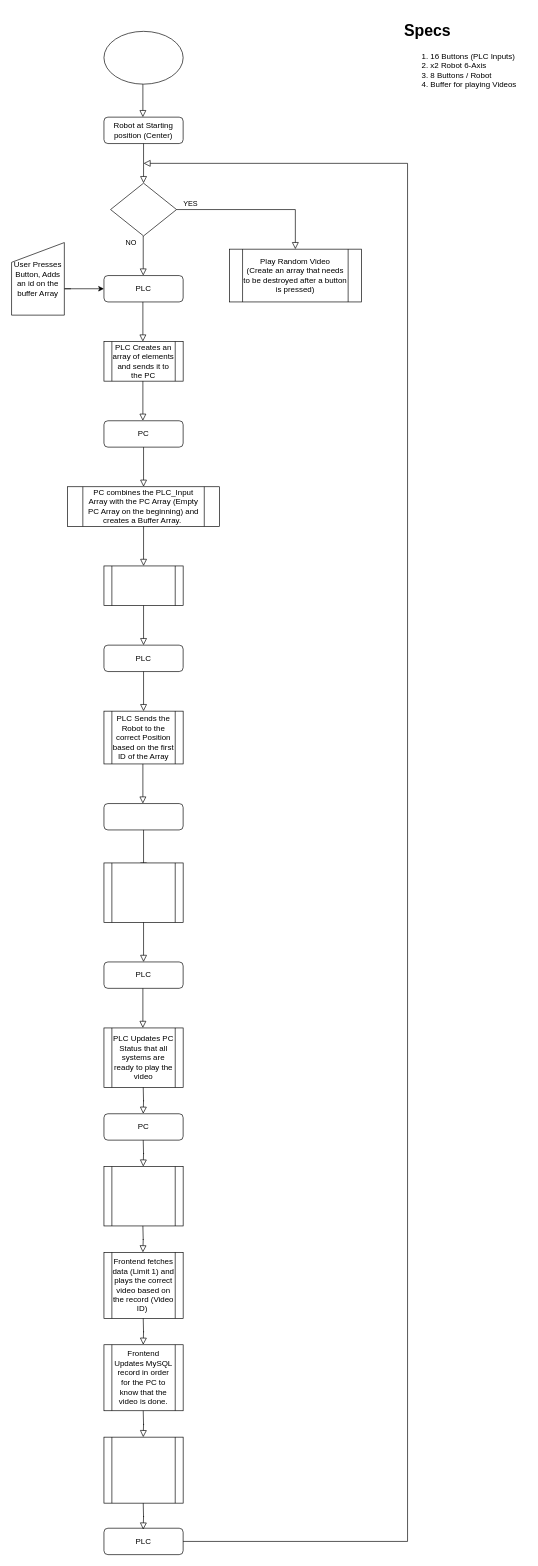
This 538x1566 diagram has some shape labels left out. The shapes that lost their labels are listed below. From the top down, each one's centre as x and y in pixels, then its label:
At pixel 143 57: "Start Main Procedure".
At pixel 143 209: "Buffer Array isEmpty?".
At pixel 143 585: "PC Sends the new array to the PLC".
At pixel 143 816: "Robot".
At pixel 143 892: "Robot Responses to the PLC when its In position and ready to play video".
At pixel 143 1196: "PC Makes a record on MySQL table (History_Video)".
At pixel 143 1469: "PC Sends data to the PLC in order for the PLC to know that The video is Done".
